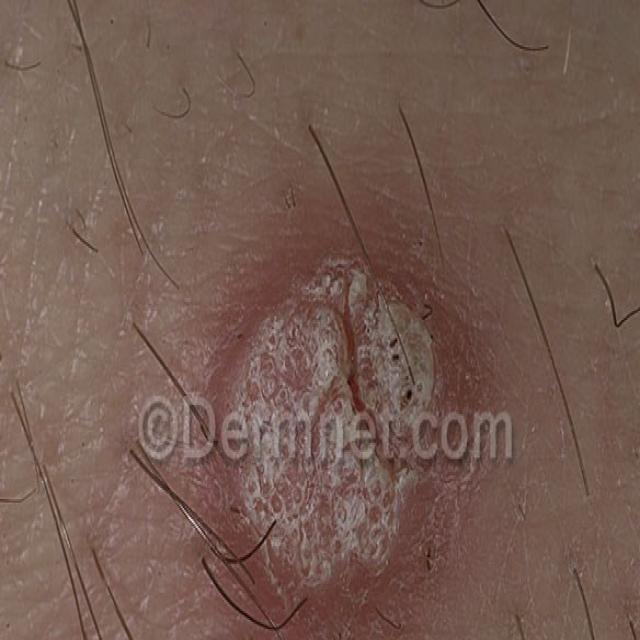Warts: (157, 186, 492, 640)
